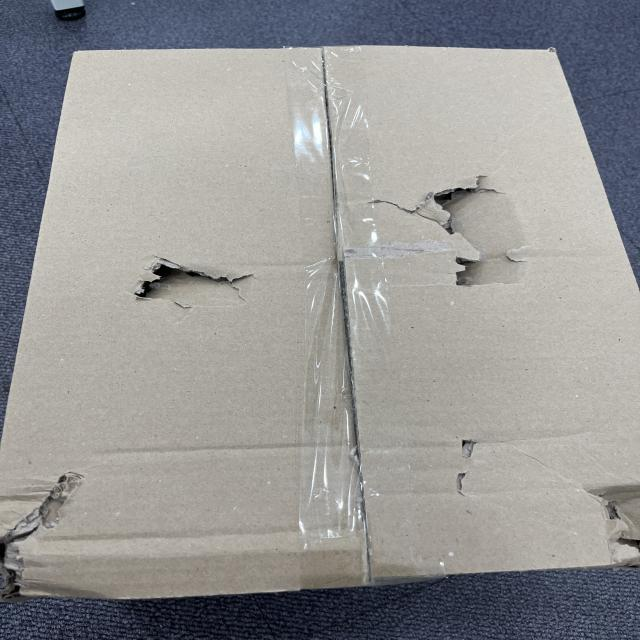hole: (422, 184, 534, 286), (3, 481, 73, 601), (134, 262, 252, 306), (597, 503, 640, 568)
